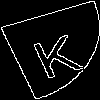K: (25, 25, 85, 80)
